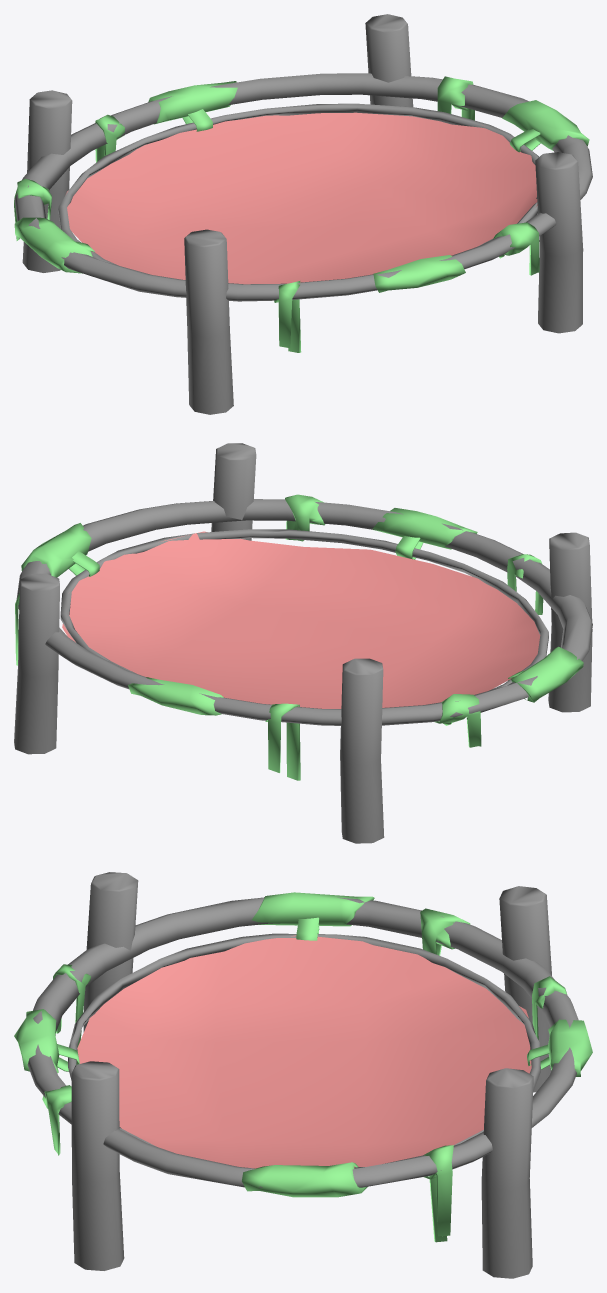
The model's file is SM_prop_throne.gltf.
3 renders of one model, top to bottom at view 1: azimuth 30°, elevation 25°; view 2: azimuth 150°, elevation 25°; view 3: azimuth 270°, elevation 25°, orthographic. The views are drawn at different scales.
Visible parts, largest first — view 1: SM_prop_throne; view 2: SM_prop_throne; view 3: SM_prop_throne.
Boxes of the visible parts, <box> form: SM_prop_throne: <box>14,14,592,414</box>; SM_prop_throne: <box>14,443,592,843</box>; SM_prop_throne: <box>14,872,592,1278</box>.
Bounding box in the file's own units: 1.28 × 0.3841 × 1.07.
